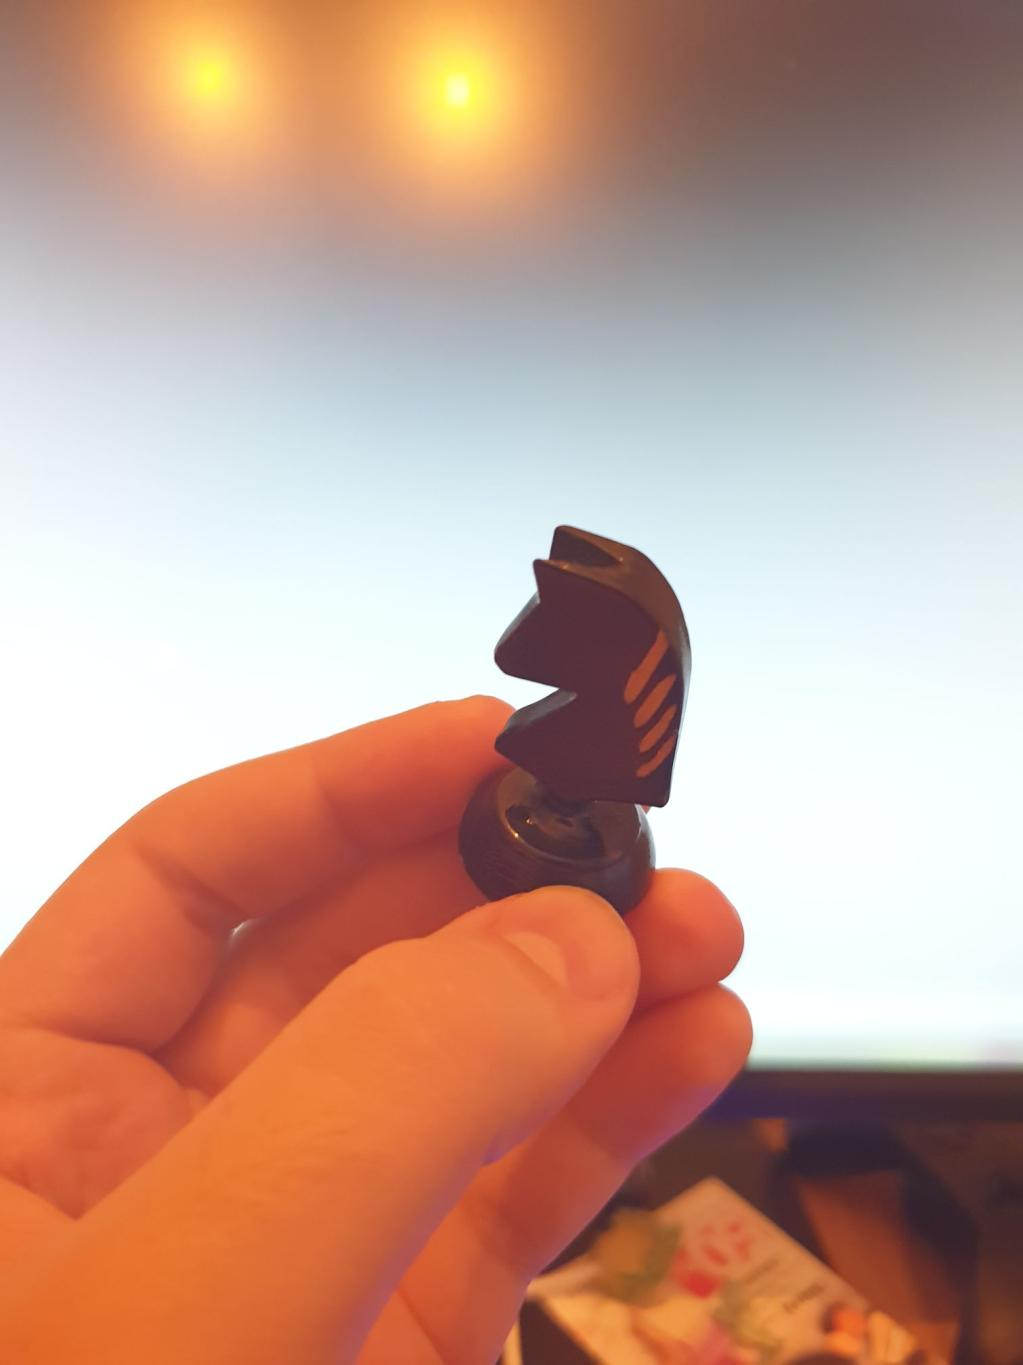bknight: (459, 522, 690, 916)
